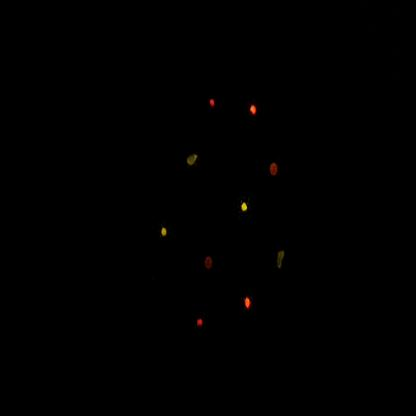PE: (238, 194, 252, 225), (158, 222, 172, 249)
PET: (193, 310, 208, 336), (206, 90, 217, 114)
PP: (273, 243, 288, 282), (184, 149, 203, 172)
PS: (268, 155, 281, 185), (203, 251, 216, 279)
PVC: (245, 96, 261, 133), (241, 289, 255, 318)
